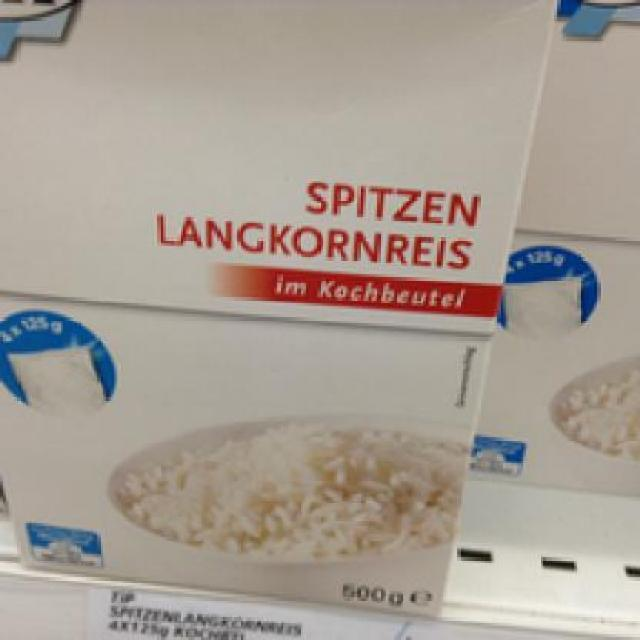Rice: (0, 0, 555, 621)
